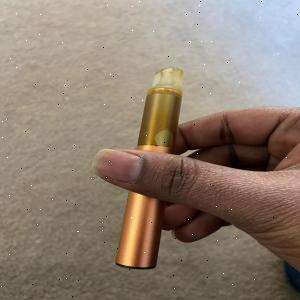Golden-E-Ciggirate: (107, 62, 192, 276)
